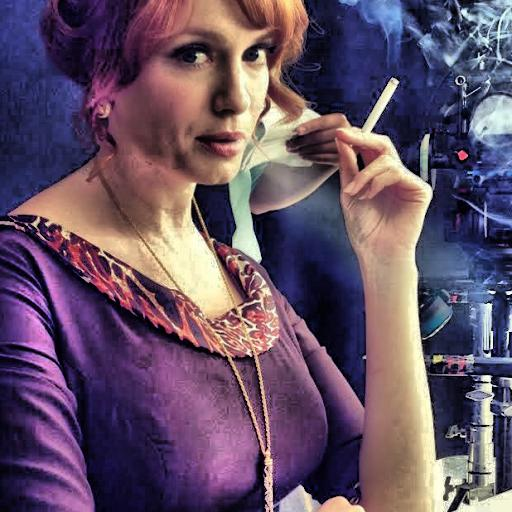Merokok: (363, 78, 399, 130)
Rokok: (336, 79, 436, 512), (339, 0, 512, 155)
